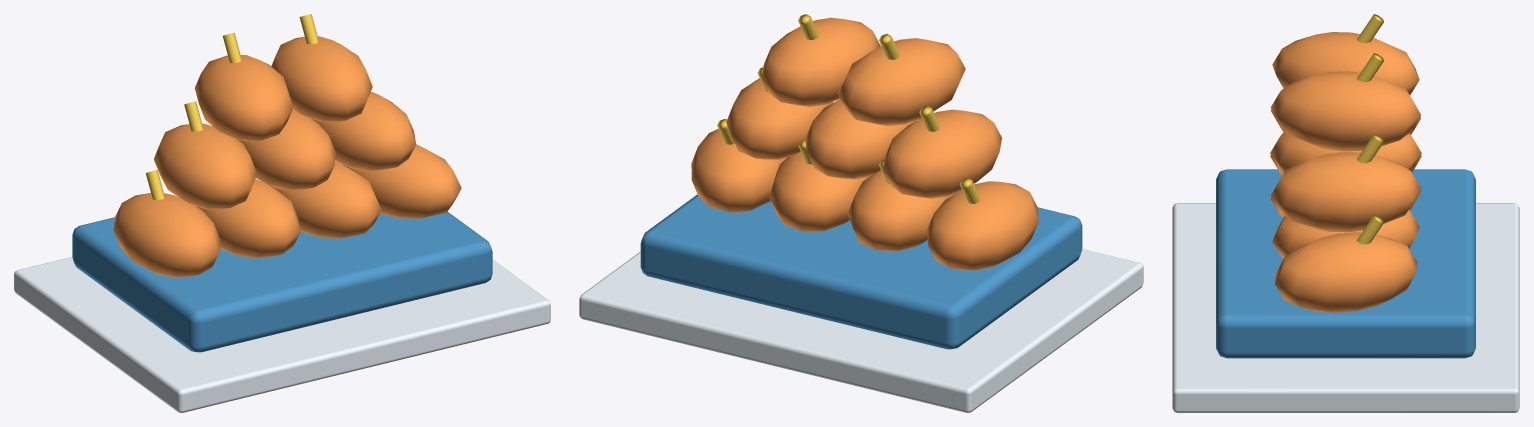
File: cooked_food_stack.glb
The picture shows the model from 3 angles, left to right: view 1: azimuth 30°, elevation 25°; view 2: azimuth 150°, elevation 25°; view 3: azimuth 270°, elevation 25°; orthographic projection. The views are drawn at different scales.
Parts seen in each view (by area): view 1: cooked_food_stack; view 2: cooked_food_stack; view 3: cooked_food_stack.
Boxes of the visible parts, <box> form: cooked_food_stack: <box>14,14,550,412</box>; cooked_food_stack: <box>579,14,1143,412</box>; cooked_food_stack: <box>1172,14,1519,412</box>.
Bounding box in the file's own units: 1.65 × 1.16 × 1.28.
